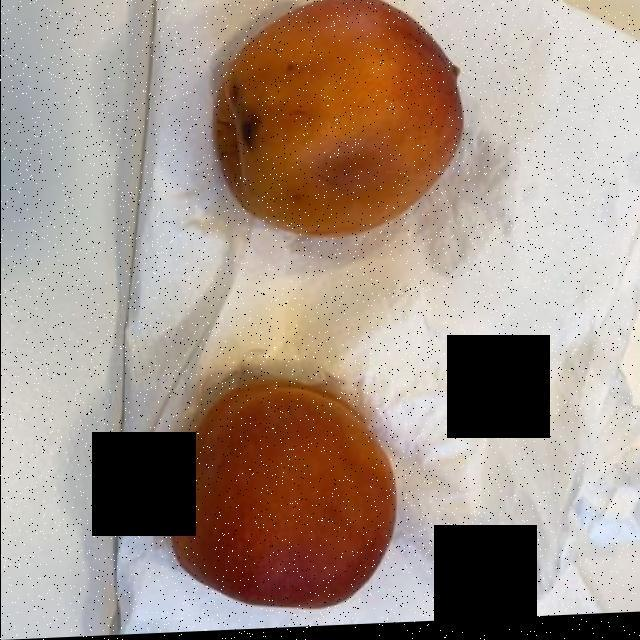apricots: (166, 5, 485, 617)
